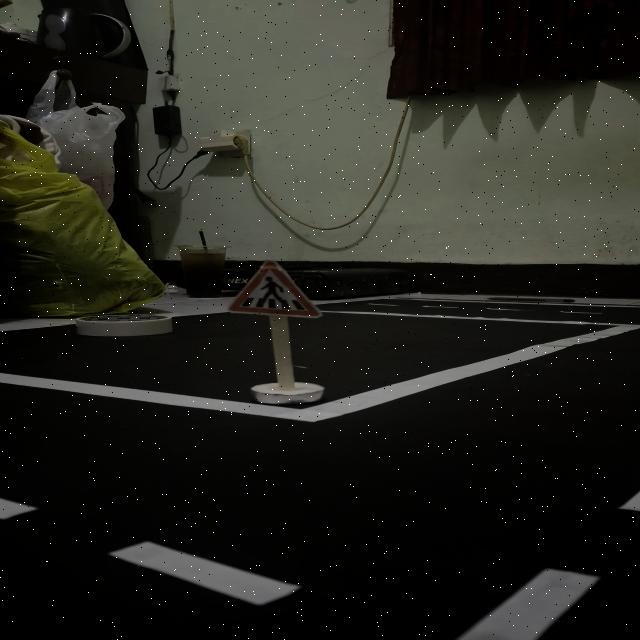Rambu Penyebrangan: (228, 259, 318, 317)
